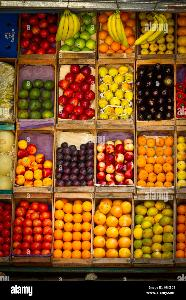apricot: (134, 130, 176, 192), (136, 124, 174, 189)
banana: (44, 7, 182, 47)
eggplant: (136, 60, 176, 122)
lime: (134, 196, 174, 262)
orange: (90, 195, 134, 263), (53, 198, 95, 260)
peach: (6, 193, 50, 256), (60, 58, 98, 124), (14, 132, 56, 189), (96, 130, 136, 188), (17, 5, 59, 55)
pear: (100, 62, 134, 124)
plum: (56, 127, 96, 188)
